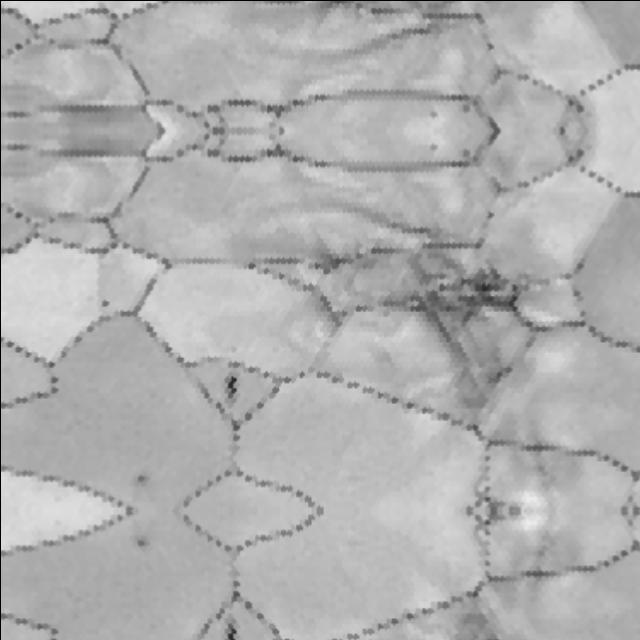good_void: (368, 195, 567, 434), (310, 248, 342, 276), (222, 370, 243, 408), (223, 615, 242, 640), (312, 0, 341, 11), (132, 471, 150, 486), (132, 536, 150, 551), (97, 296, 112, 311), (460, 147, 471, 159), (428, 141, 439, 152), (460, 102, 471, 113), (428, 109, 439, 120)
